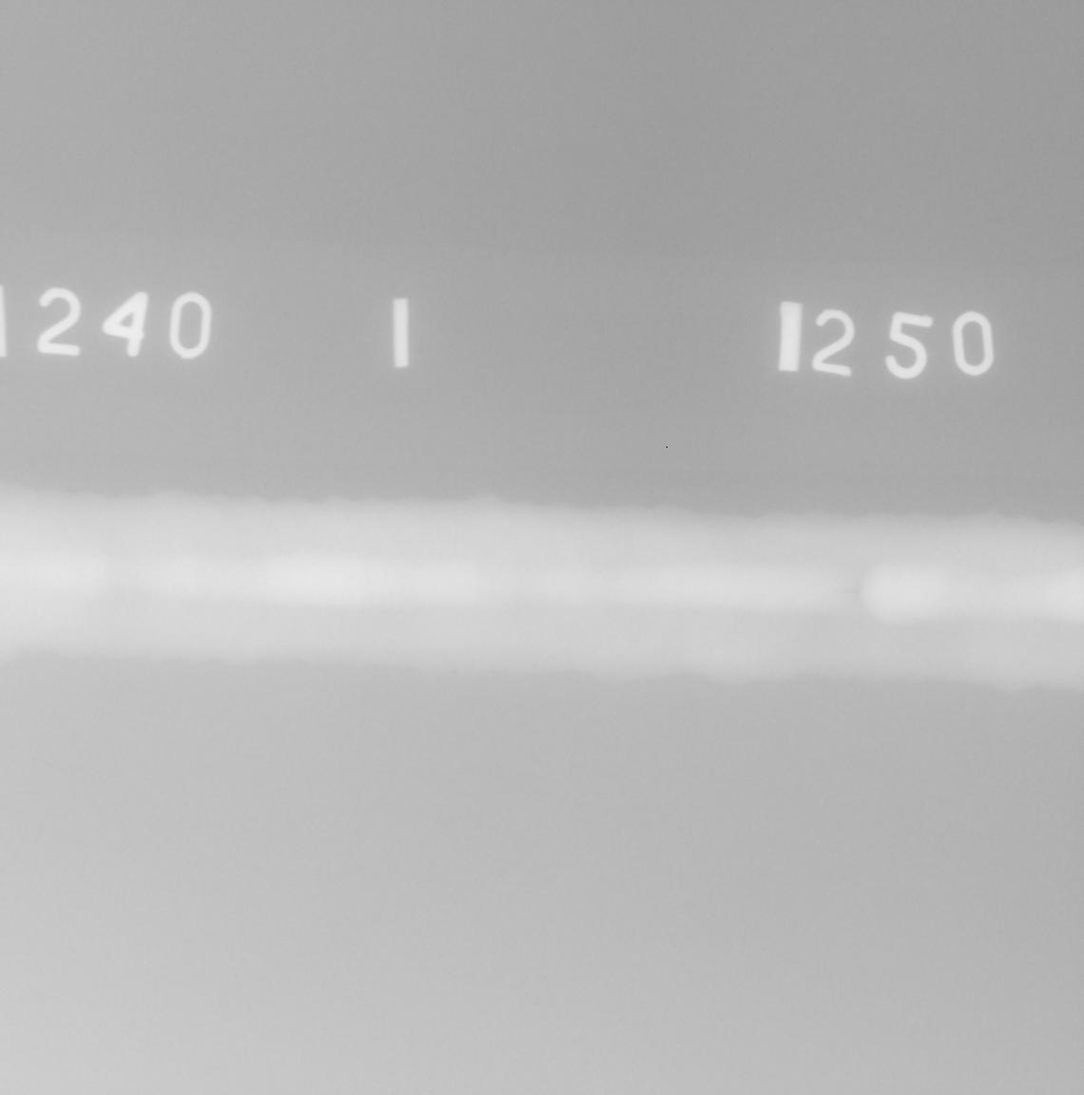Inclusion: (848, 590, 860, 594)
